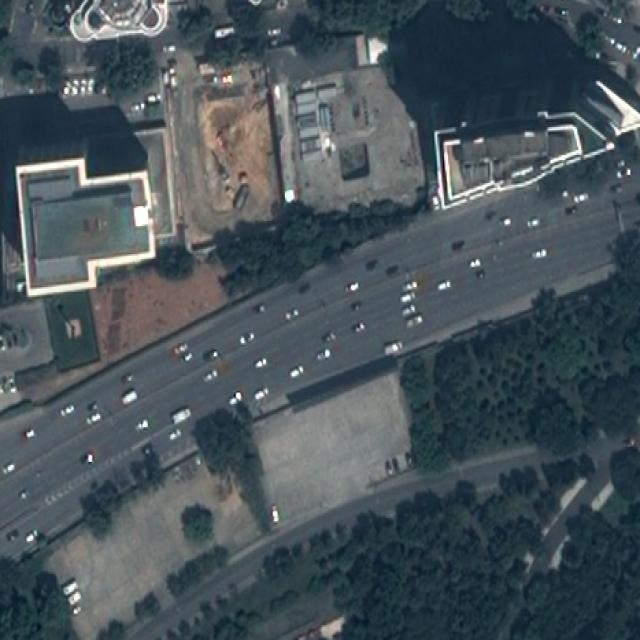Batiment: (18, 158, 154, 296)
